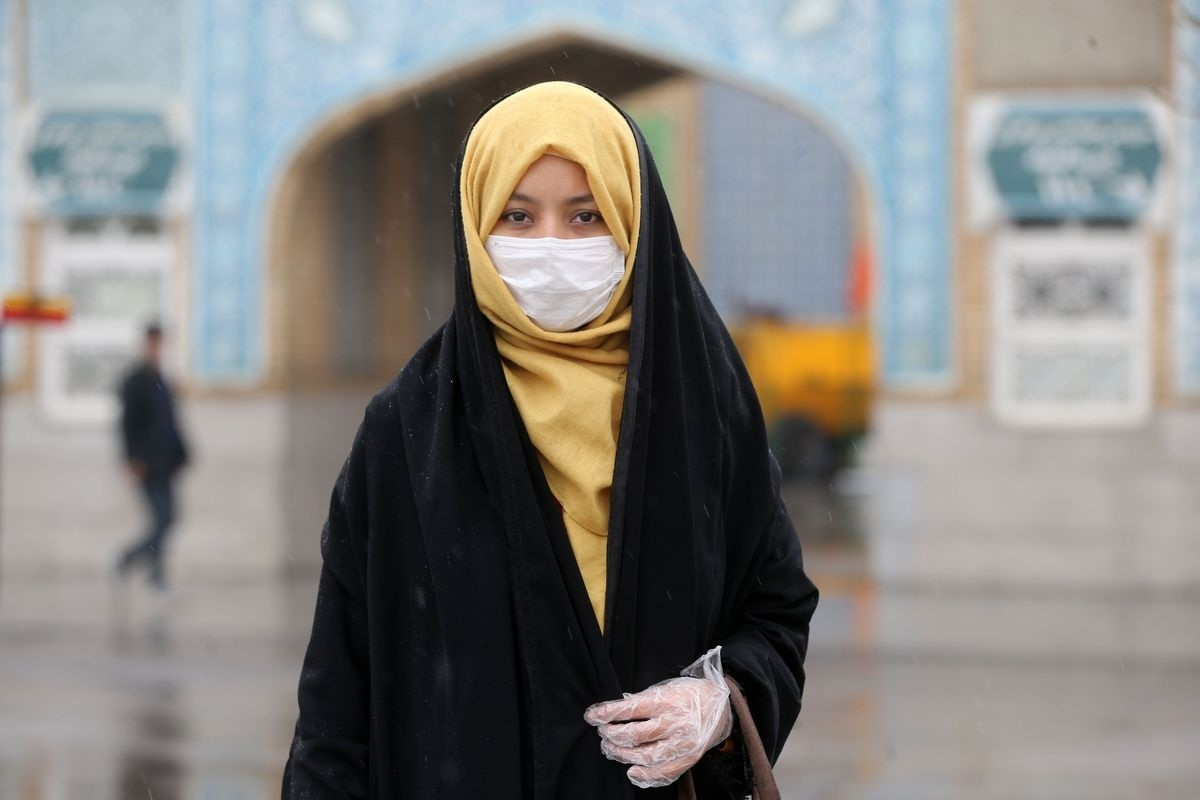face_with_mask: (459, 79, 644, 339)
